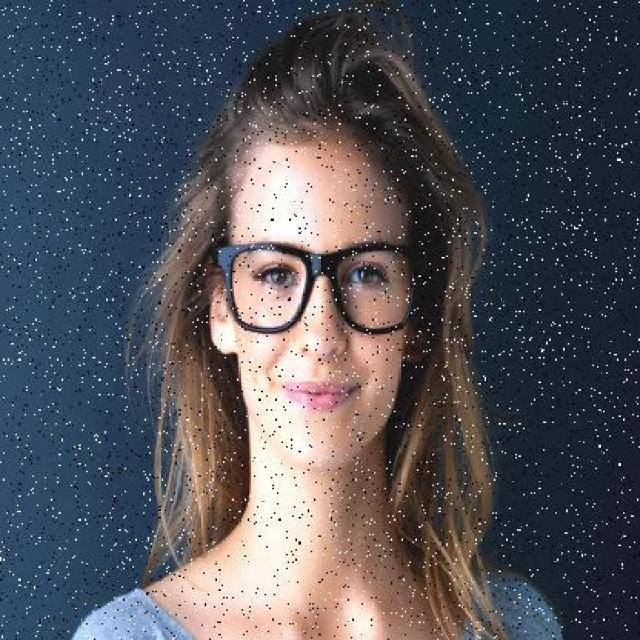glasses: (213, 226, 438, 334)
